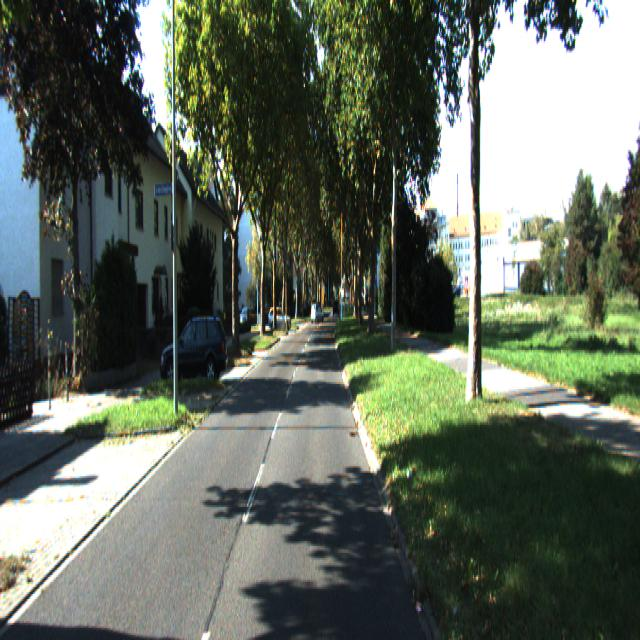Car: (159, 313, 229, 388), (268, 309, 292, 333)
